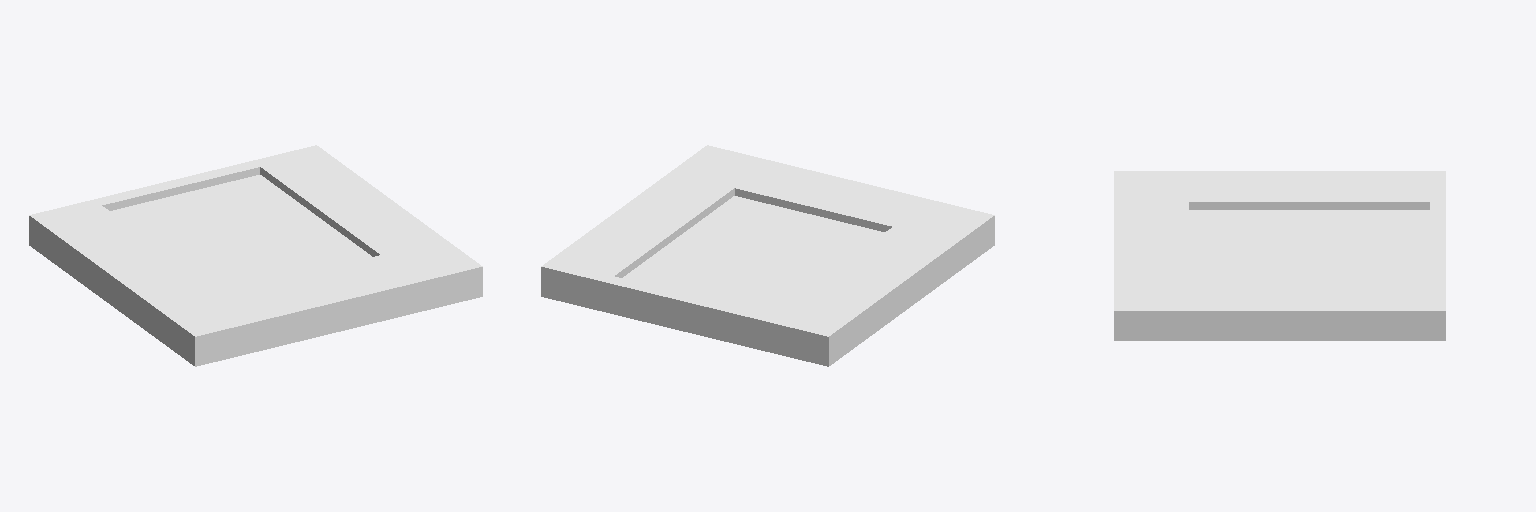
File: DE2.vox.obj
3 renders of one model, left to right at view 1: azimuth 30°, elevation 25°; view 2: azimuth 150°, elevation 25°; view 3: azimuth 270°, elevation 25°, orthographic.
Parts seen in each view (by area): view 1: object 1; view 2: object 1; view 3: object 1.
Part boxes in pixels (x1,y1,x2,y2): object 1: (29, 145, 482, 366); object 1: (541, 145, 994, 366); object 1: (1114, 171, 1445, 340).
Size of the model in its own units: 4 by 0.4 by 4.